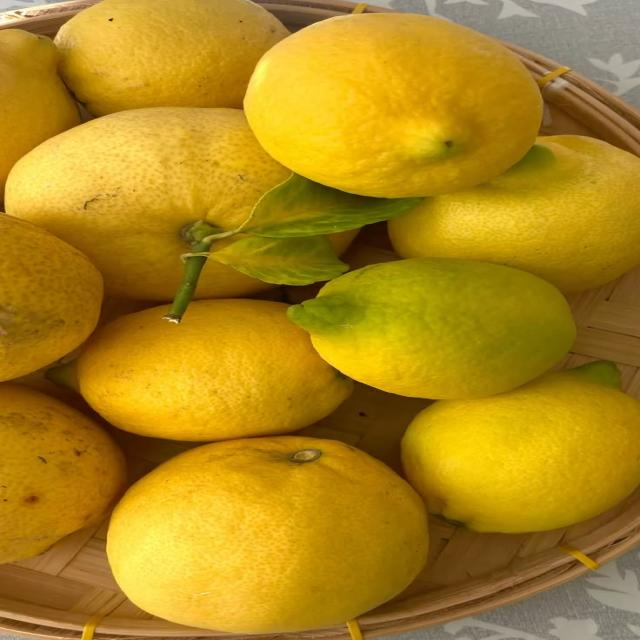lemon: (107, 436, 427, 633), (7, 108, 290, 301), (245, 14, 541, 197), (402, 362, 639, 532), (288, 258, 575, 398), (75, 299, 352, 441), (389, 136, 639, 292), (55, 0, 288, 115), (0, 383, 125, 563), (0, 214, 102, 380), (0, 29, 79, 202)
